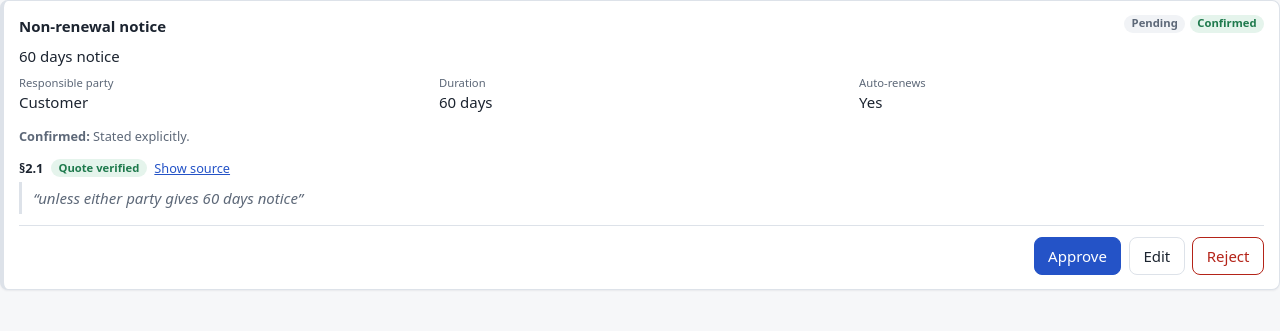
Test case: ItemCard › shows an API failure inline
Click the button "Approve": (1078, 256) [1034,237,1121,275]
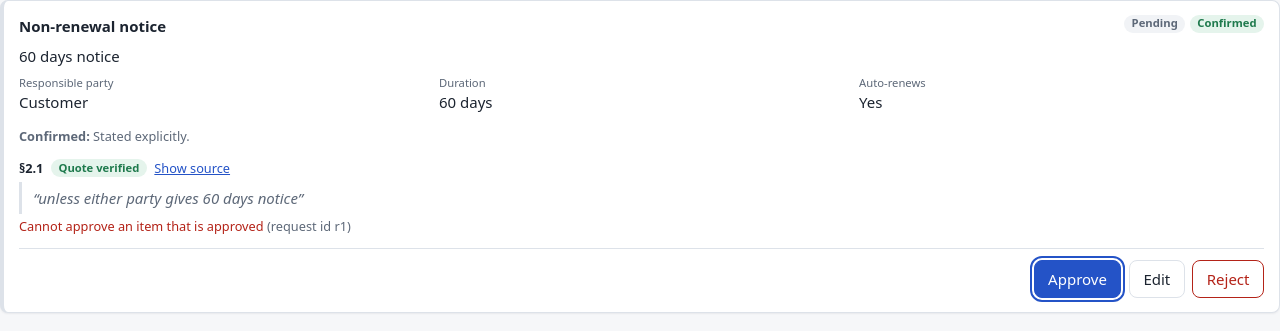
Expected: the message shows "Cannot approve an item that is approved", [19,217,264,235]
